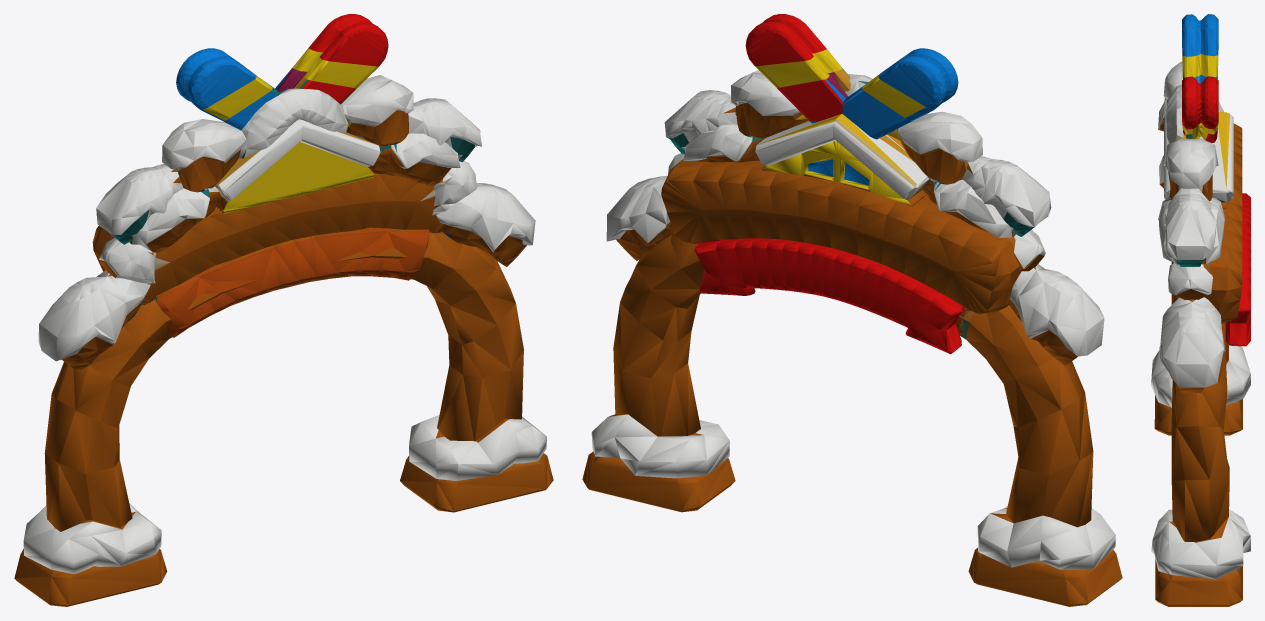
The model's file is arch-ski.glb.
The picture shows the model from 3 angles, left to right: view 1: azimuth 30°, elevation 25°; view 2: azimuth 150°, elevation 25°; view 3: azimuth 270°, elevation 25°; orthographic projection. The views are drawn at different scales.
Parts seen in each view (by area): view 1: arch_ski_tripo; view 2: arch_ski_tripo; view 3: arch_ski_tripo.
Part boxes in pixels (x1,y1,x2,y2): arch_ski_tripo: [14, 14, 553, 606]; arch_ski_tripo: [582, 14, 1122, 606]; arch_ski_tripo: [1151, 14, 1250, 606].
Size of the model in its own units: 13.77 by 12.89 by 2.6.
